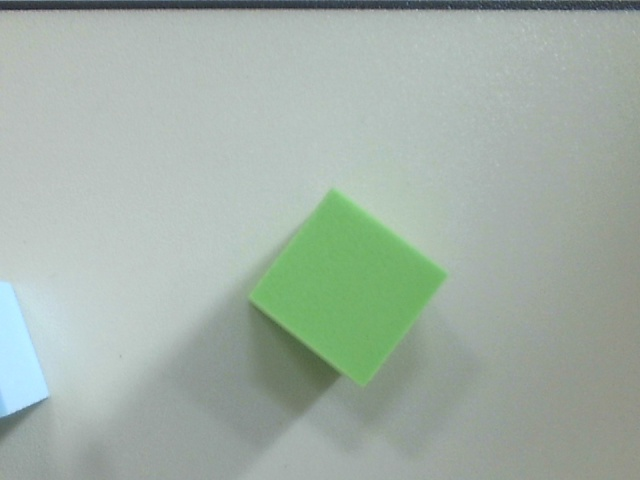greencube: (242, 186, 451, 392)
